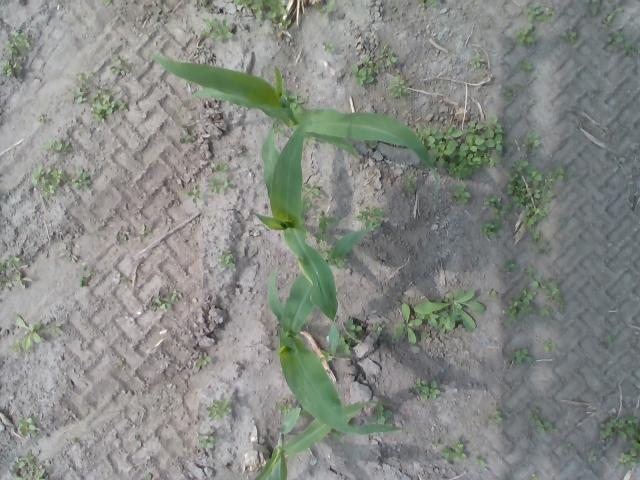Maize: (148, 49, 446, 205), (264, 224, 408, 446), (252, 111, 338, 361), (255, 403, 372, 480)
Weeds: (412, 114, 510, 181), (504, 158, 564, 230), (414, 287, 484, 334), (526, 266, 566, 316), (88, 86, 129, 121), (503, 286, 537, 328), (8, 314, 41, 356), (392, 302, 422, 344), (29, 164, 68, 196), (598, 414, 640, 442), (233, 0, 288, 20), (9, 452, 47, 480), (350, 57, 380, 86), (484, 193, 513, 221), (200, 17, 233, 41), (314, 246, 348, 269), (356, 206, 385, 232), (312, 210, 334, 244), (4, 30, 32, 56), (525, 3, 556, 25), (206, 397, 233, 421), (412, 378, 441, 400), (619, 438, 640, 468), (387, 74, 411, 100), (441, 440, 466, 464), (514, 22, 538, 46), (152, 292, 179, 312), (8, 254, 24, 287), (370, 403, 392, 426), (480, 219, 504, 240), (601, 6, 622, 30), (207, 174, 232, 194), (377, 44, 399, 66), (17, 416, 40, 437), (0, 59, 24, 78), (109, 52, 128, 76), (344, 318, 364, 340), (72, 168, 92, 190), (198, 428, 218, 449), (41, 139, 73, 152), (507, 348, 533, 364), (452, 183, 471, 204), (314, 0, 336, 18), (217, 248, 236, 268), (285, 92, 304, 112), (335, 334, 352, 356), (535, 418, 558, 434), (606, 28, 624, 48), (186, 184, 203, 204), (522, 132, 542, 149), (276, 397, 294, 415), (300, 182, 320, 197), (582, 0, 600, 16), (560, 29, 578, 45), (502, 85, 519, 101), (537, 238, 553, 255), (72, 86, 88, 103), (404, 175, 418, 194), (76, 69, 95, 83), (77, 264, 88, 287), (271, 18, 292, 30), (178, 128, 195, 142), (526, 406, 540, 422), (620, 42, 636, 56), (46, 322, 64, 334), (517, 59, 533, 72), (296, 408, 310, 422), (490, 410, 504, 424), (542, 338, 556, 352), (0, 276, 13, 291), (300, 196, 312, 212), (195, 356, 212, 367), (502, 260, 519, 271), (470, 56, 484, 69), (272, 123, 285, 137), (200, 0, 213, 13), (319, 350, 333, 362), (372, 321, 383, 336), (322, 42, 337, 52), (486, 288, 498, 300), (473, 456, 486, 467), (64, 253, 78, 263), (212, 162, 228, 170), (419, 0, 437, 7), (365, 138, 377, 148), (532, 229, 540, 243), (604, 334, 614, 344), (420, 331, 430, 340), (304, 139, 312, 148), (431, 438, 438, 448), (0, 261, 6, 272), (120, 235, 128, 243), (529, 475, 539, 480), (102, 0, 110, 6), (566, 441, 572, 448), (588, 455, 596, 460)
